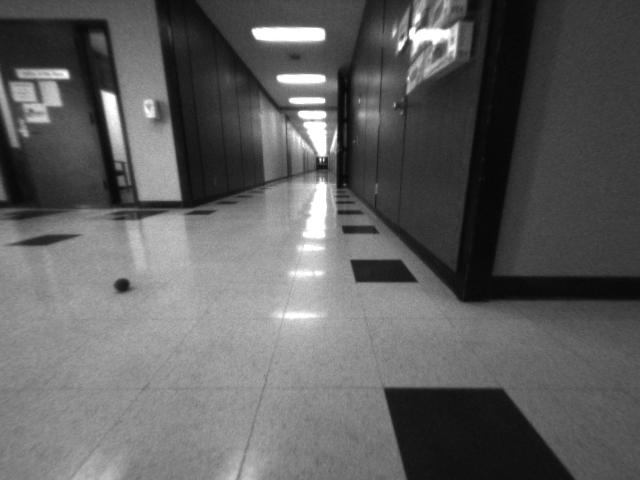dogtoy: (107, 265, 140, 301)
